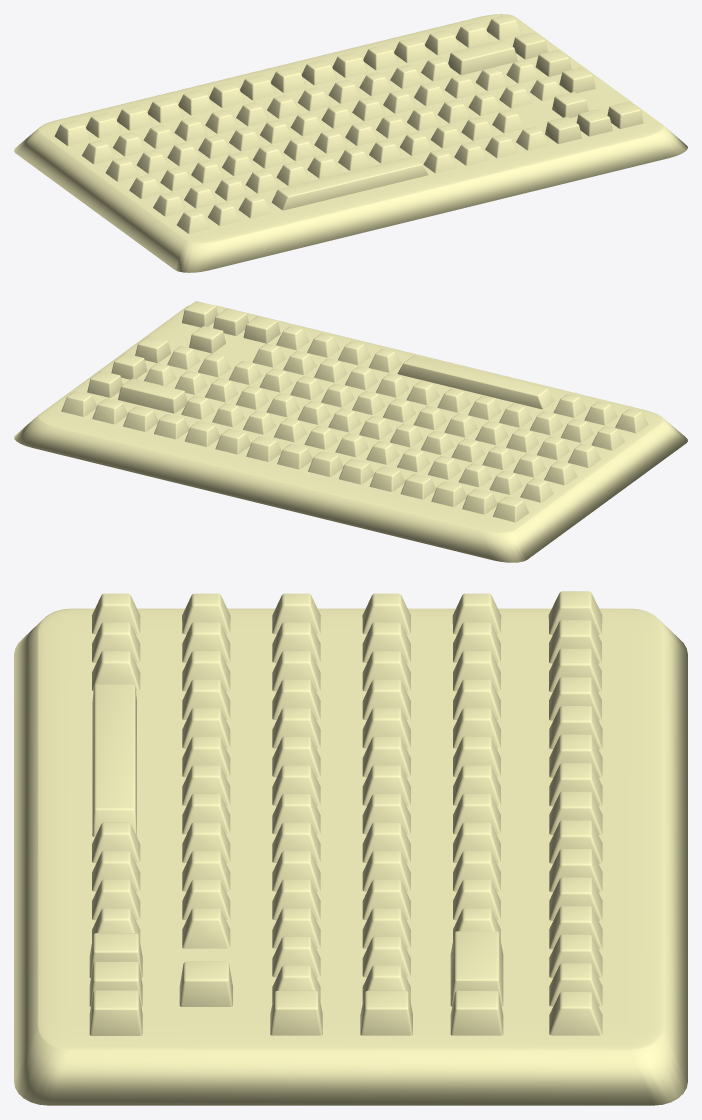
The model's file is keyboard.fbx.
The picture shows the model from 3 angles, top to bottom: view 1: azimuth 30°, elevation 25°; view 2: azimuth 150°, elevation 25°; view 3: azimuth 270°, elevation 25°; orthographic projection. The views are drawn at different scales.
Visible parts, largest first — view 1: Cube.001, Cube; view 2: Cube.001, Cube; view 3: Cube, Cube.001.
Boxes of the visible parts, x1,y1,x2,y2 form: Cube.001: (54,15,643,233); Cube: (14,14,687,272); Cube.001: (61,301,648,522); Cube: (14,305,687,562); Cube: (14,608,687,1105); Cube.001: (89,591,602,1035).
Bounding box in the file's own units: 55.79 × 3.74 × 33.47.
